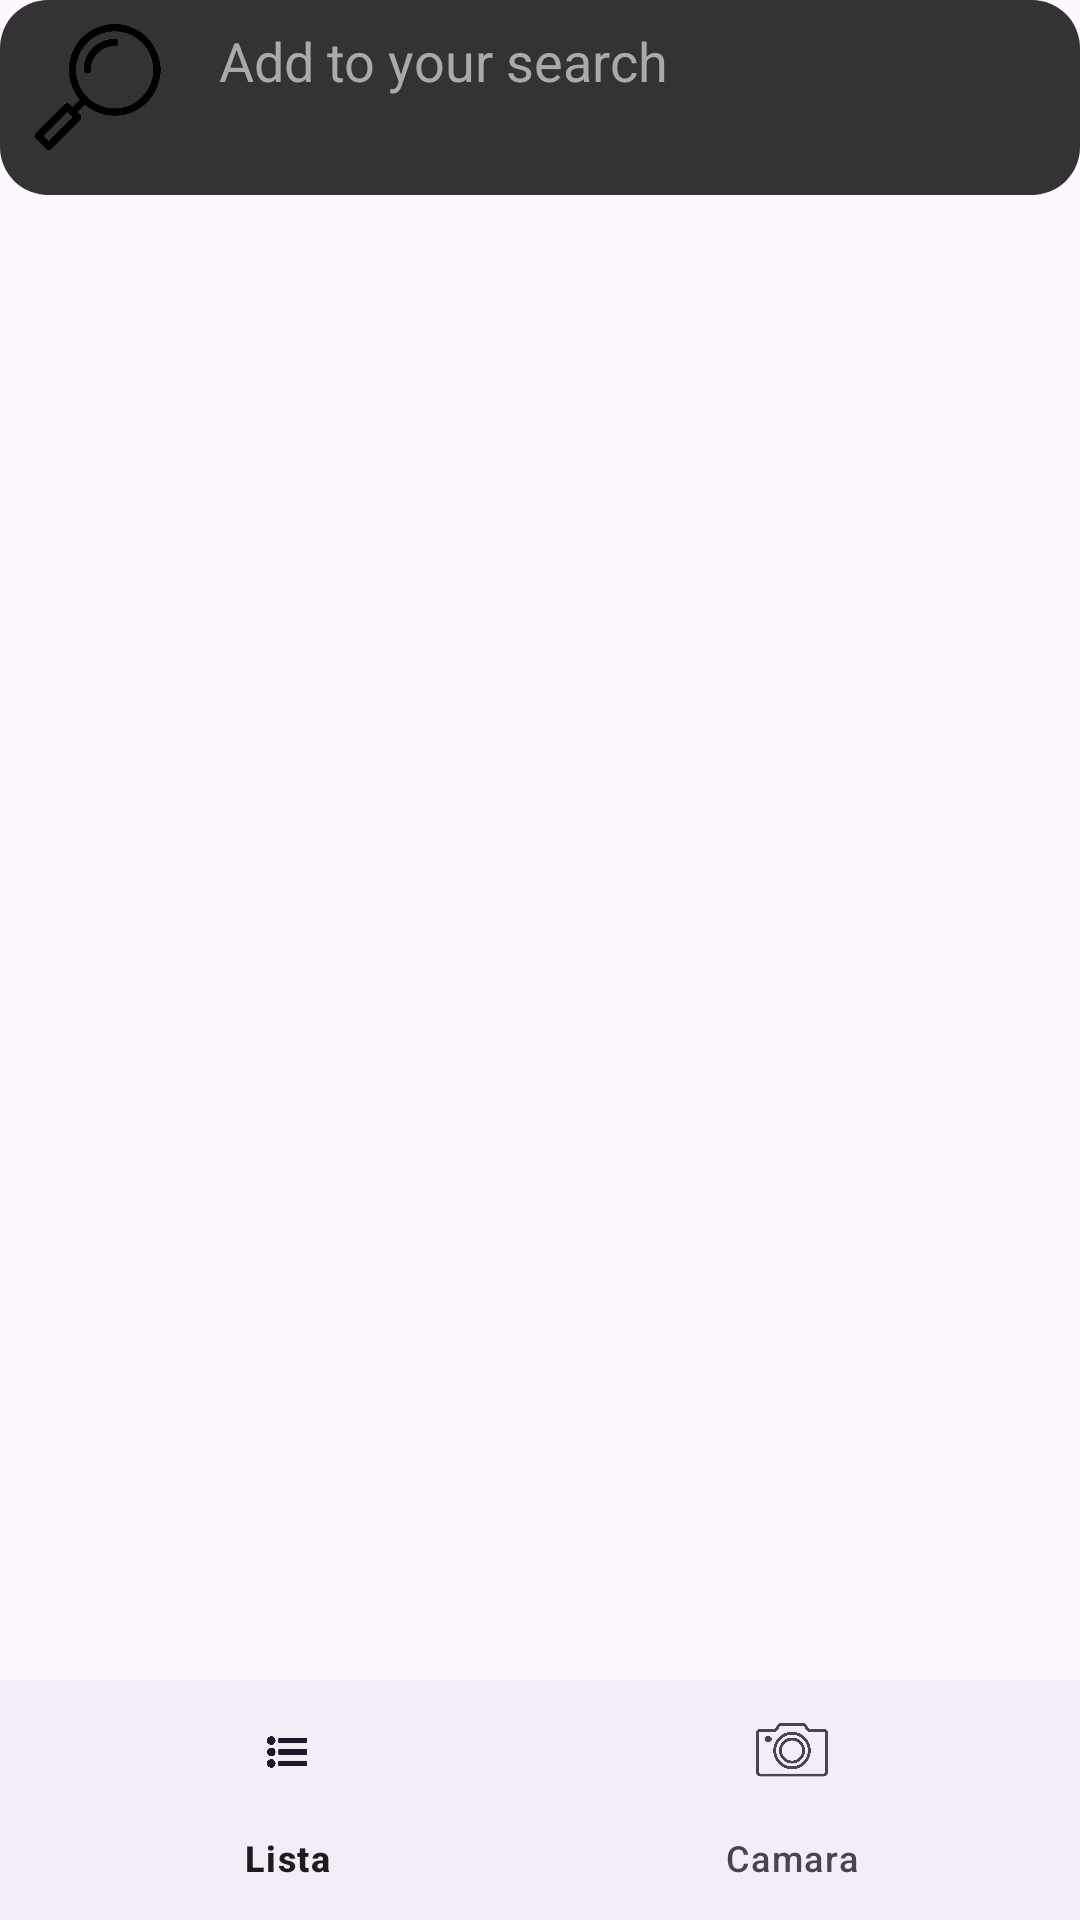

Named icons in this screenshot (1080×1920) and their centers, (x=x, y=y):
Icono de búsqueda: (x=98, y=87)
